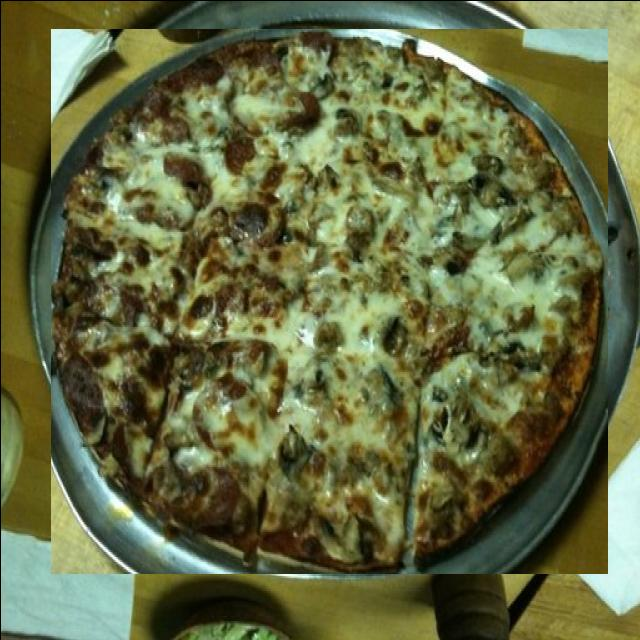pizza: (50, 28, 607, 573)
